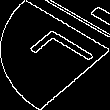L_SE: (14, 27, 96, 83)
